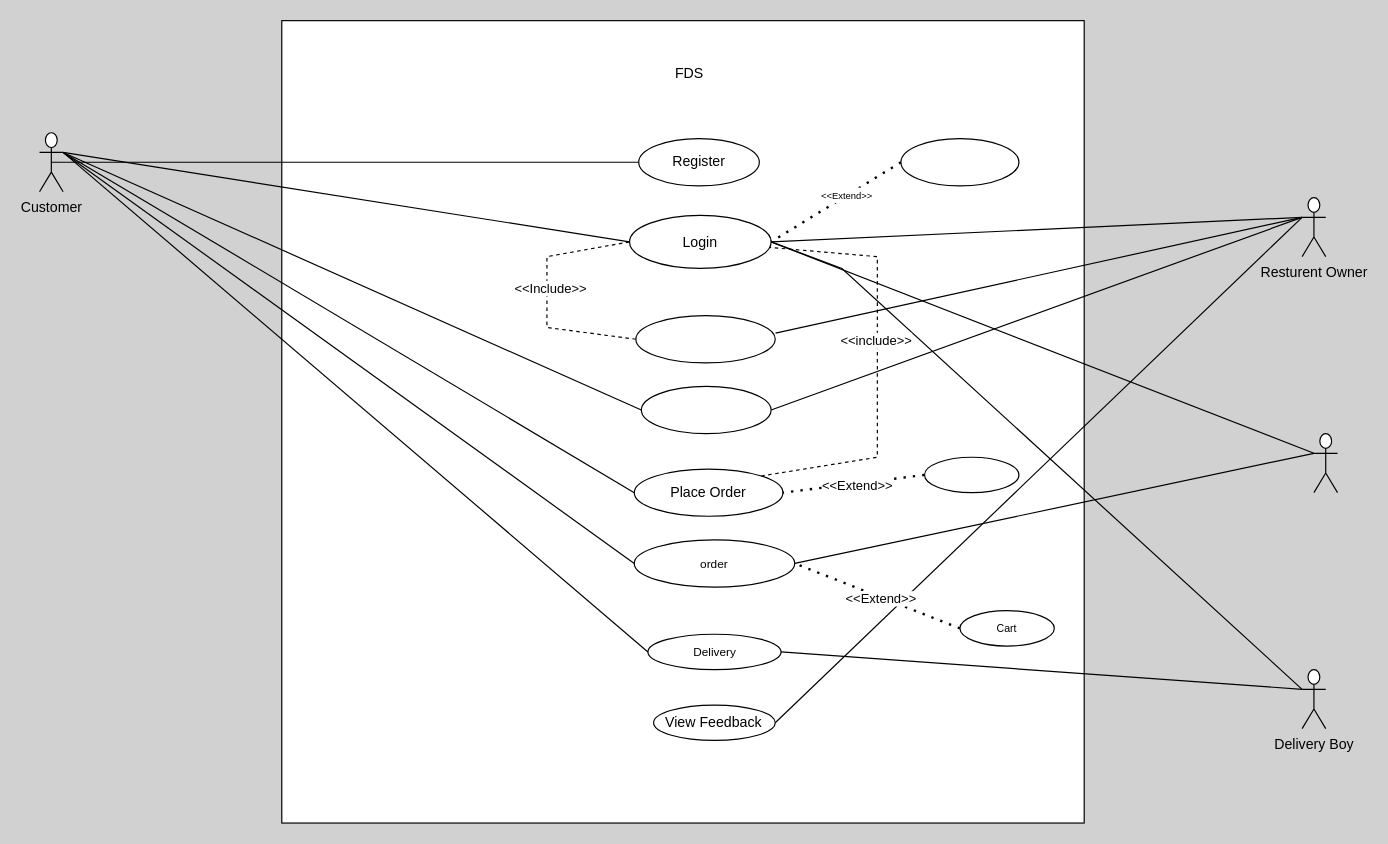
Image size: 1388x844. Some labels were removed from this diagram. The box of each missing label's shape, as (x1, y1, x2, y2) in pixels:
Forget Password: (900, 137, 1019, 186)
Give Feedback: (923, 456, 1019, 493)
Manage Menu: (635, 314, 775, 363)
Staff Member: (1313, 432, 1338, 493)
View menu: (640, 385, 771, 434)
